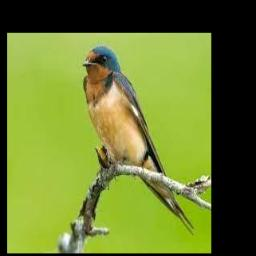Swallow: (83, 45, 195, 235)
